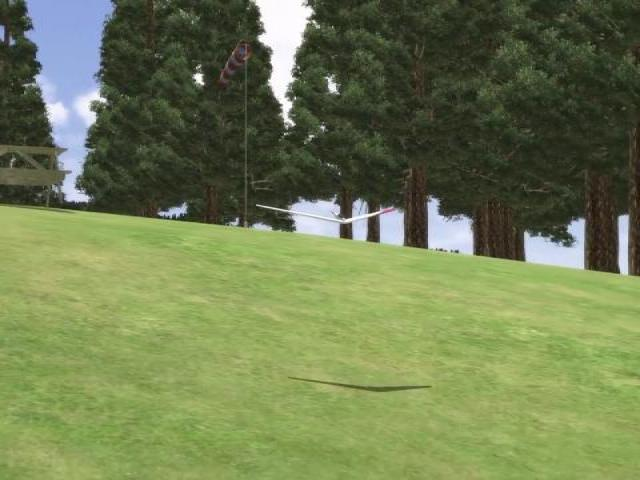flying wing: (253, 196, 399, 232)
